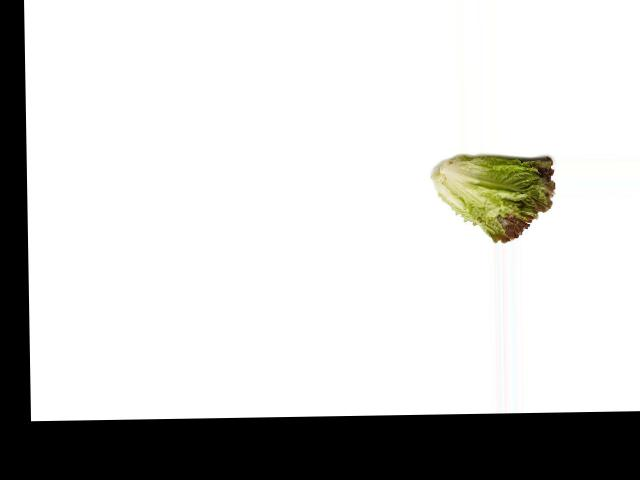lettuce: (432, 155, 558, 242)
